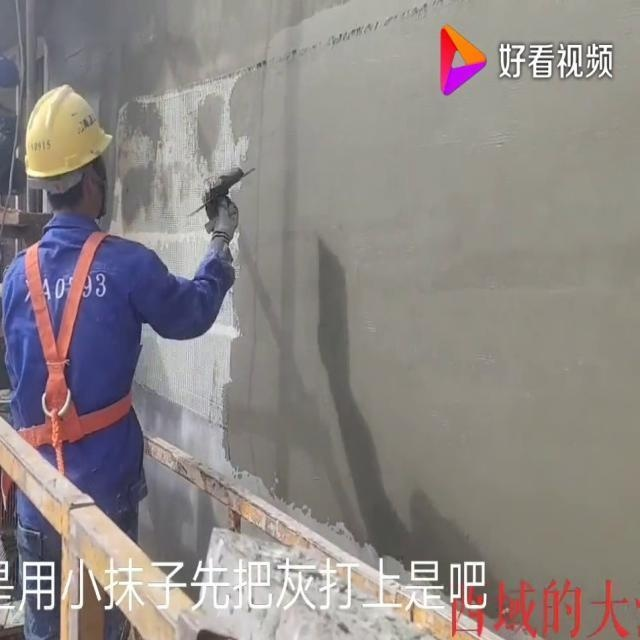Arnes_seguridad: (8, 221, 144, 462)
